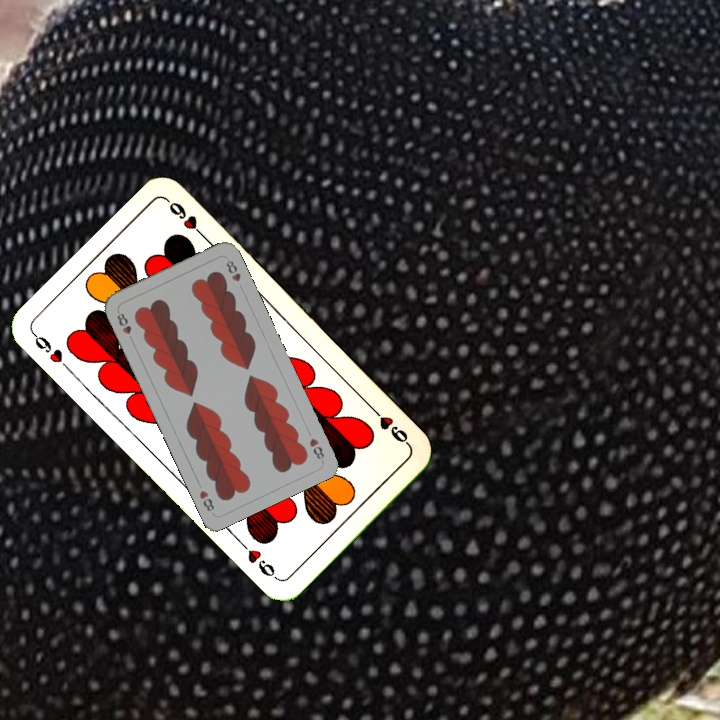H8: (113, 309, 136, 345), (305, 434, 327, 464)
H9: (367, 403, 413, 449), (29, 329, 75, 375)
